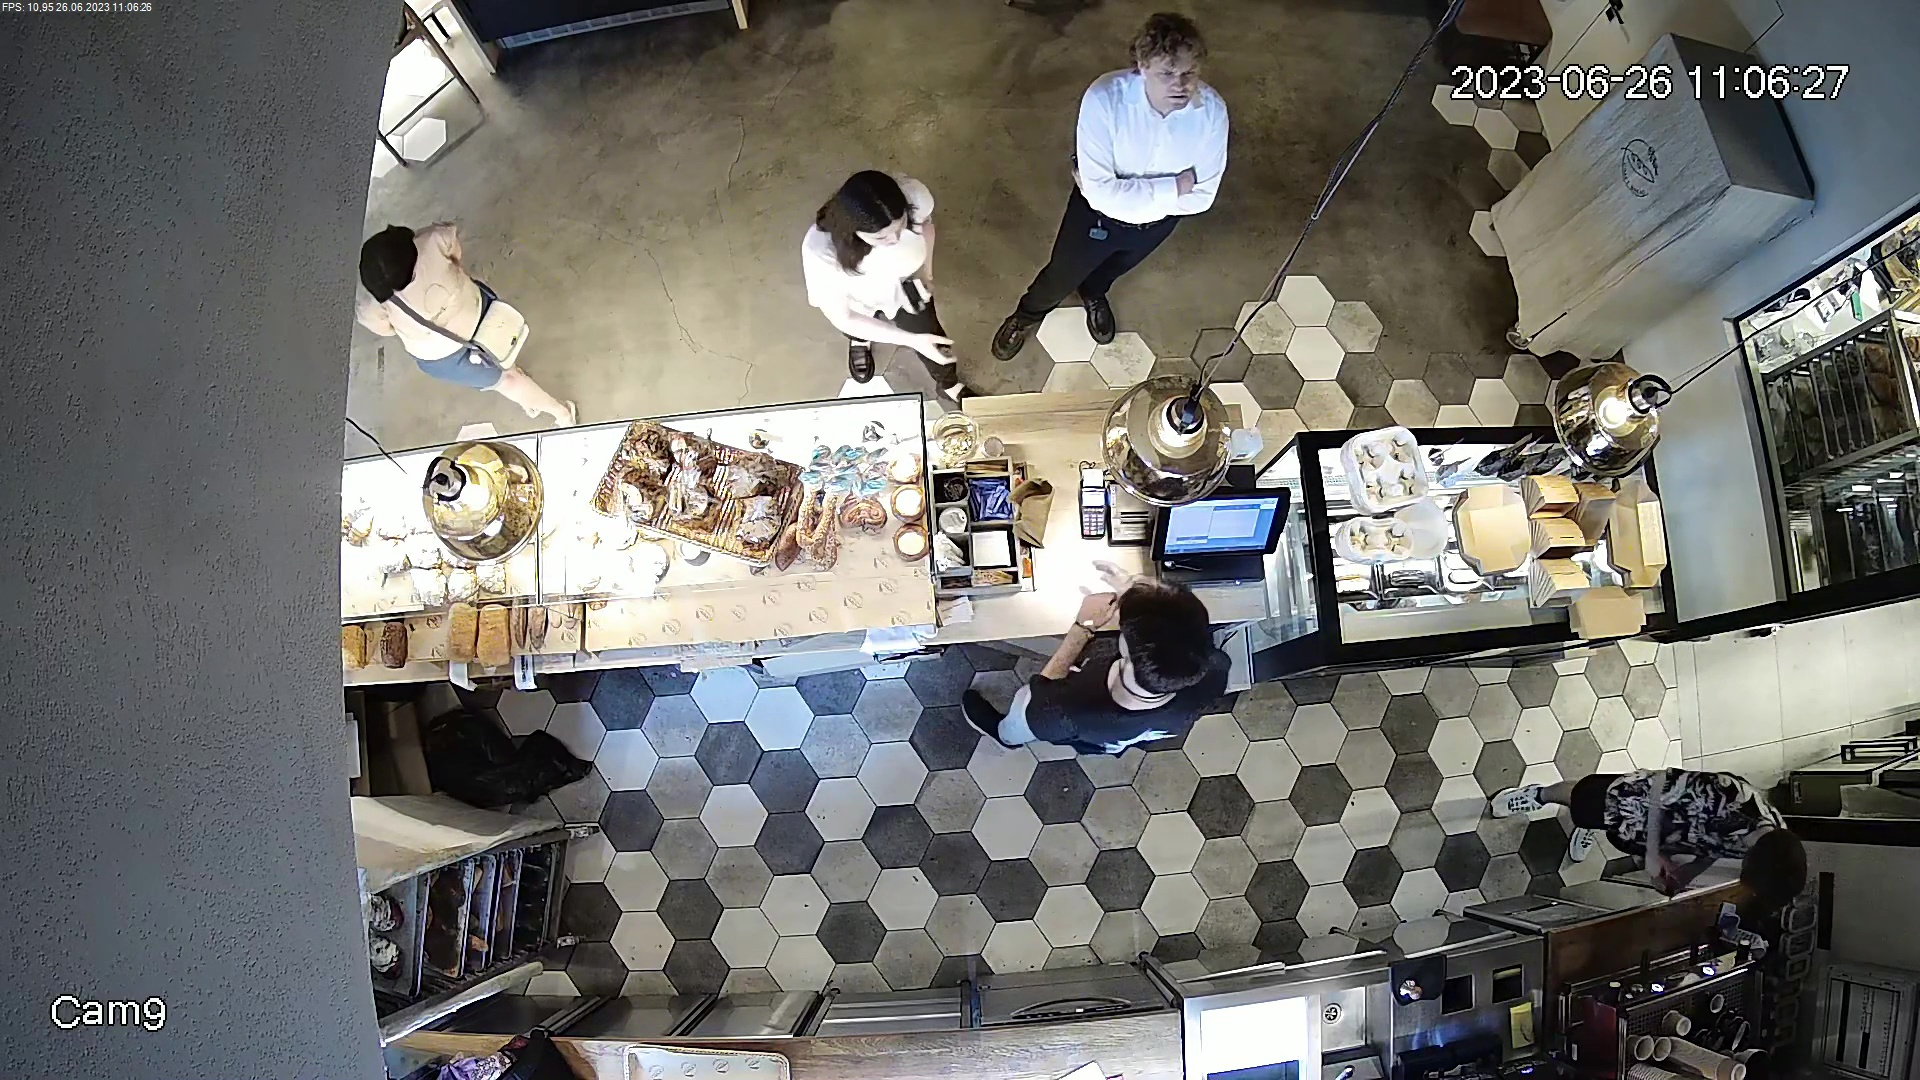pack: (1003, 474, 1050, 545)
person: (785, 166, 964, 396)
